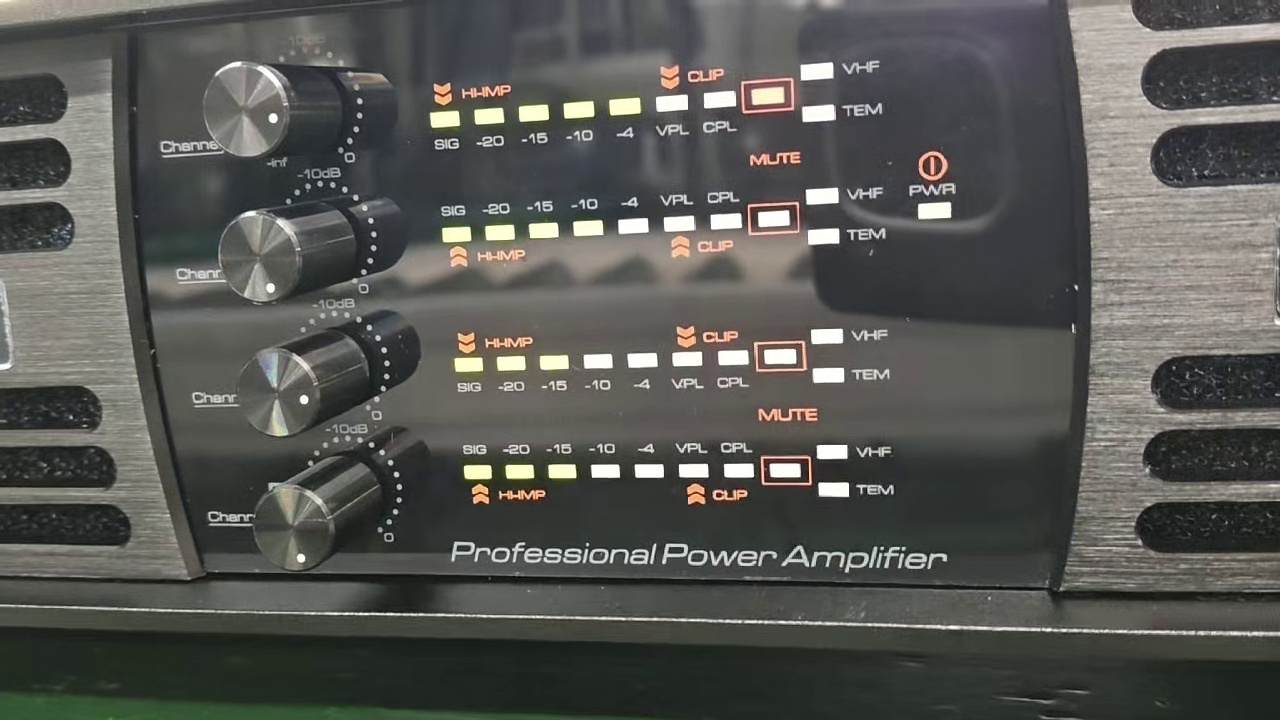FP_CPL: (699, 84, 740, 143), (717, 433, 757, 486), (711, 345, 751, 396), (704, 187, 746, 234)
FP_PWR: (904, 180, 960, 227)
FP_PWR_area: (899, 142, 962, 230)
FP_SIG_area: (420, 57, 890, 146), (456, 430, 902, 515), (433, 183, 888, 266), (447, 318, 893, 396)
FP_VPL: (651, 87, 696, 143), (659, 184, 698, 239), (668, 345, 709, 396), (672, 431, 711, 484)
